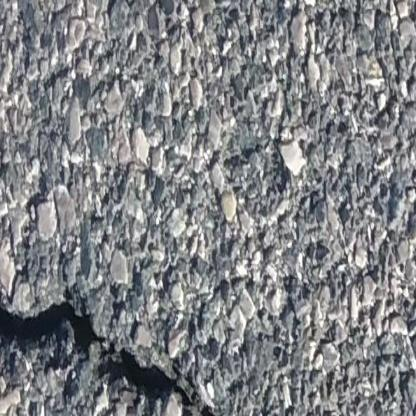Cracks: (0, 300, 253, 416)
